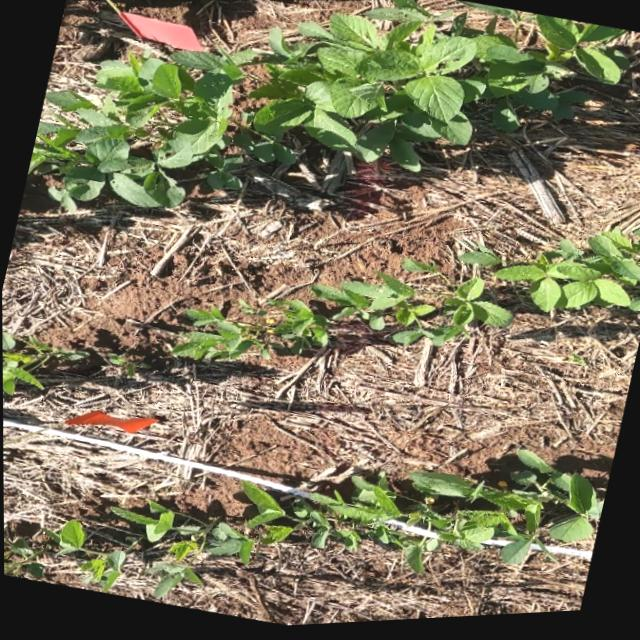soy_plant: (27, 0, 627, 208), (3, 457, 603, 599), (170, 277, 511, 362), (457, 234, 640, 317), (2, 332, 87, 361), (2, 332, 40, 392), (400, 261, 436, 277)
